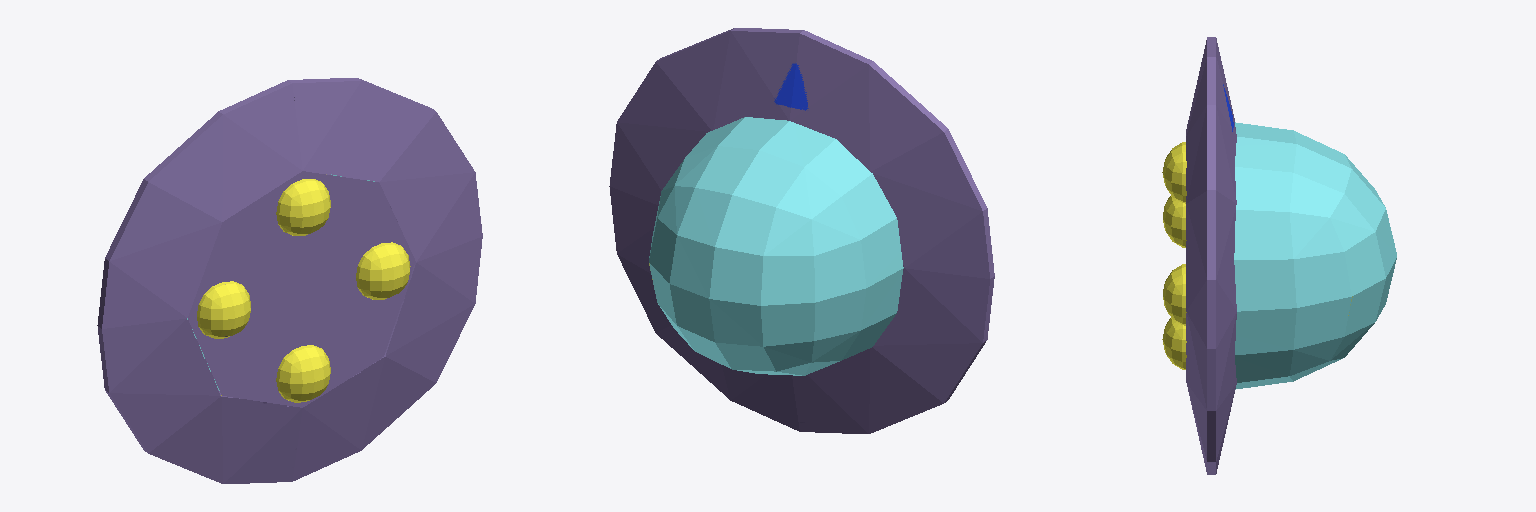
3 views of the same model, side by side, from view 1: azimuth 30°, elevation 25°; view 2: azimuth 150°, elevation 25°; view 3: azimuth 270°, elevation 25° (orthographic).
Parts seen in each view (by area): view 1: 立方体_立方体.001; view 2: 立方体_立方体.001; view 3: 立方体_立方体.001.
Part boxes in pixels (left/top/right/bottom): 立方体_立方体.001: left=97, top=78, right=482, bottom=483; 立方体_立方体.001: left=609, top=28, right=994, bottom=433; 立方体_立方体.001: left=1162, top=37, right=1396, bottom=474.
Size of the model in its own units: 3.27 by 3.27 by 1.75.
1 materials, 1 textured.